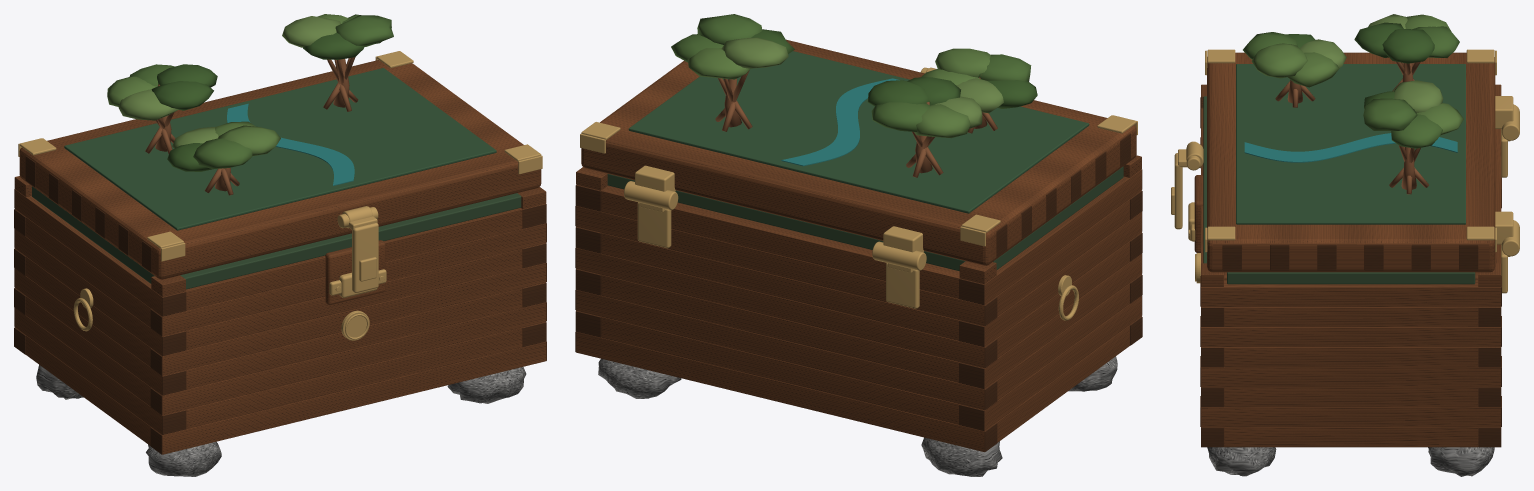
Rendered from liberia.glb.
3 renders of one model, left to right at view 1: azimuth 30°, elevation 25°; view 2: azimuth 150°, elevation 25°; view 3: azimuth 270°, elevation 25°, orthographic. The views are drawn at different scales.
Parts seen in each view (by area): view 1: Terrain / inset forest, Lid / polished slab, Timber / front course 2, Timber / front course 0, Timber / front course 4, Timber / front course 1, Timber / front course 6, Timber / front course 3, Timber / front course 5, Timber / front course 7, Mineral seam / long, Timber / side course 7 (+27 smaller); view 2: Terrain / inset forest, Lid / polished slab, Timber / rear course 4, Timber / rear course 0, Timber / rear course 2, Timber / rear course 7, Timber / rear course 1, Timber / rear course 3, Timber / rear course 5, Timber / rear course 6, Timber / side course 7, Timber / side course 1 (+32 smaller); view 3: Terrain / inset forest, Lid / polished slab, Timber / side course 7.001, Timber / side course 1.001, Timber / side course 3.001, Timber / side course 5.001, Timber / side course 0.001, Timber / side course 2.001, Timber / side course 4.001, Timber / side course 6.001, Mineral seam / side.001, River / continuous ribbon (+42 smaller).
Part boxes in pixels (<box>): Terrain / inset forest: <box>64,68,496,230</box>; Lid / polished slab: <box>19,60,541,279</box>; Timber / front course 2: <box>151,302,546,415</box>; Timber / front course 0: <box>151,341,546,454</box>; Timber / front course 4: <box>151,263,546,375</box>; Timber / front course 1: <box>186,327,522,429</box>; Timber / front course 6: <box>151,223,546,336</box>; Timber / front course 3: <box>186,288,522,389</box>; Timber / front course 5: <box>186,249,522,350</box>; Timber / front course 7: <box>186,208,522,310</box>; Mineral seam / long: <box>180,193,521,289</box>; Timber / side course 7: <box>14,189,185,316</box>; Terrain / inset forest: <box>628,51,1089,213</box>; Lid / polished slab: <box>581,39,1136,265</box>; Timber / rear course 4: <box>576,247,996,368</box>; Timber / rear course 0: <box>576,331,996,451</box>; Timber / rear course 2: <box>576,289,996,410</box>; Timber / rear course 7: <box>601,185,959,298</box>; Timber / rear course 1: <box>601,317,959,424</box>; Timber / rear course 3: <box>601,275,959,382</box>; Timber / rear course 5: <box>601,233,959,340</box>; Timber / rear course 6: <box>576,206,996,326</box>; Timber / side course 7: <box>960,169,1141,304</box>; Timber / side course 1: <box>960,296,1141,430</box>; Terrain / inset forest: <box>1236,64,1465,224</box>; Lid / polished slab: <box>1207,52,1495,272</box>; Timber / side course 7.001: <box>1201,279,1500,306</box>; Timber / side course 1.001: <box>1201,407,1501,427</box>; Timber / side course 3.001: <box>1201,367,1501,387</box>; Timber / side course 5.001: <box>1201,327,1501,346</box>; Timber / side course 0.001: <box>1224,427,1478,447</box>; Timber / side course 2.001: <box>1224,387,1478,407</box>; Timber / side course 4.001: <box>1224,347,1478,367</box>; Timber / side course 6.001: <box>1224,307,1478,326</box>; Mineral seam / side.001: <box>1227,272,1475,284</box>; River / continuous ribbon: <box>1244,133,1457,162</box>.
Bounding box in the file's own units: 3.79 × 3.13 × 2.88.
Materials: 12 (3 with a texture image).
